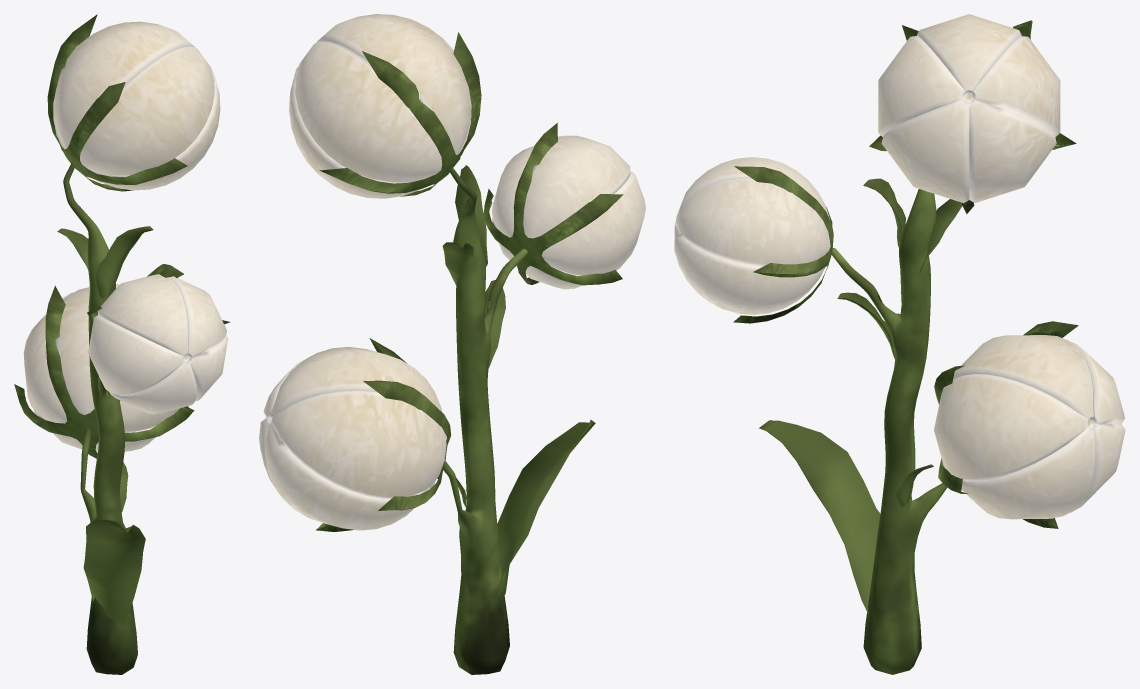
Rendered from PollenDead.fbx.
The picture shows the model from 3 angles, left to right: view 1: azimuth 30°, elevation 25°; view 2: azimuth 150°, elevation 25°; view 3: azimuth 270°, elevation 25°; orthographic projection. The views are drawn at different scales.
Visible parts, largest first — view 1: Pollen; view 2: Pollen; view 3: Pollen.
Boxes of the visible parts, x1,y1,x2,y2 form: Pollen: (14, 14, 230, 674); Pollen: (259, 14, 645, 674); Pollen: (674, 14, 1125, 674).
Bounding box in the file's own units: 106 × 296 × 178.
Materials: 1 (1 with a texture image).
